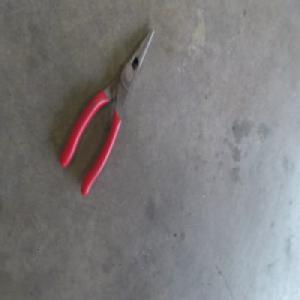Pliers: (66, 25, 161, 195)
